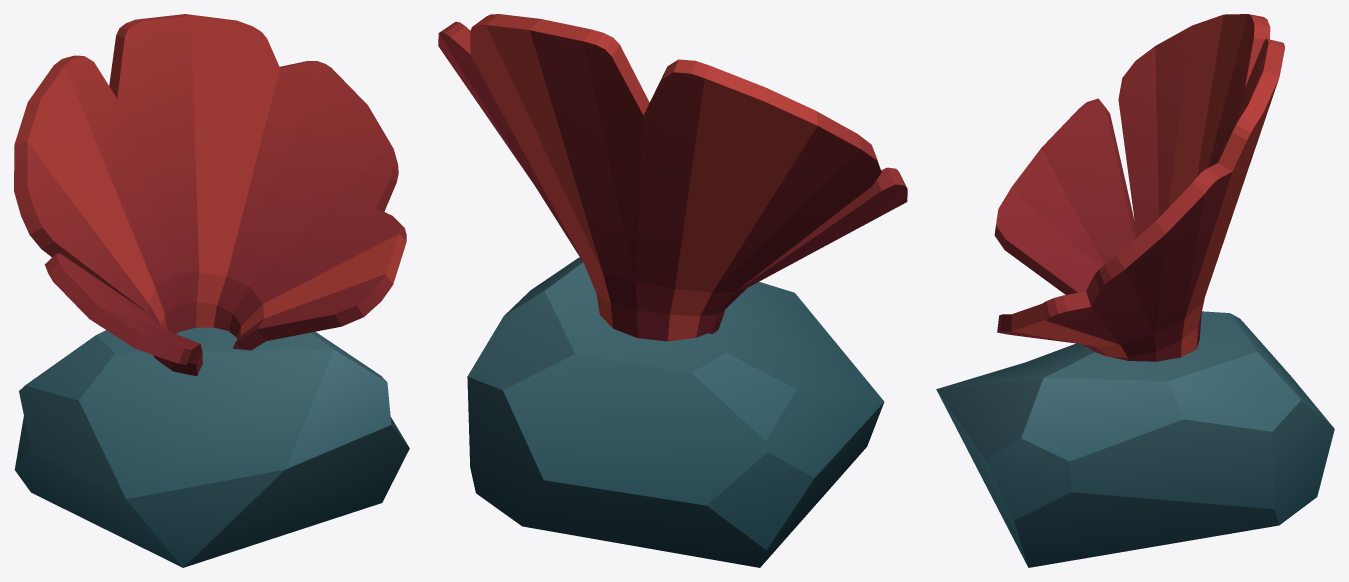
File: coral_peafowl_red_2.fbx
The picture shows the model from 3 angles, left to right: view 1: azimuth 30°, elevation 25°; view 2: azimuth 150°, elevation 25°; view 3: azimuth 270°, elevation 25°; orthographic projection. The views are drawn at different scales.
Visible parts, largest first — view 1: coral_peafowl_red_2; view 2: coral_peafowl_red_2; view 3: coral_peafowl_red_2.
Part boxes in pixels (box(x1,y1,x2,y2)): coral_peafowl_red_2: box(14, 14, 409, 567); coral_peafowl_red_2: box(438, 14, 907, 567); coral_peafowl_red_2: box(936, 14, 1334, 567).
Bounding box in the file's own units: 0.6746 × 0.7632 × 0.601.
